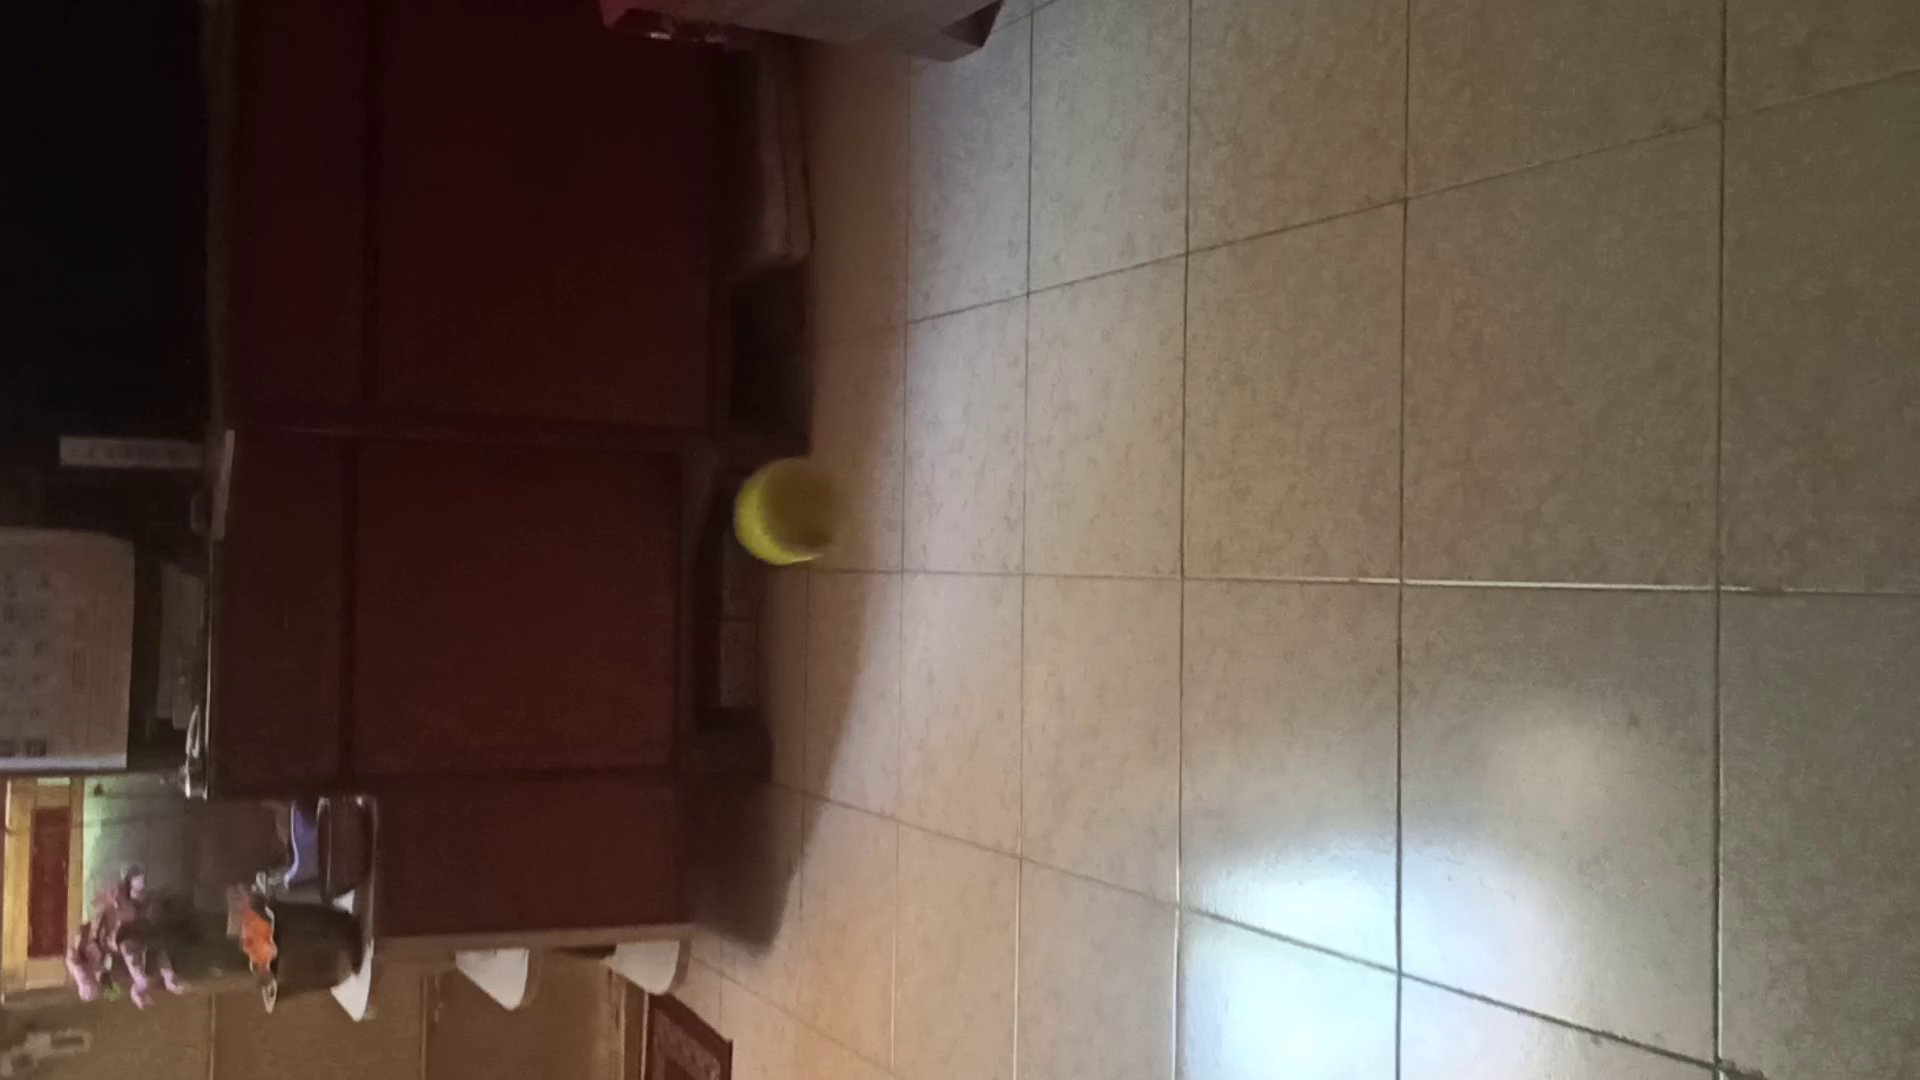Tennis-Ball: (733, 459, 847, 564)
